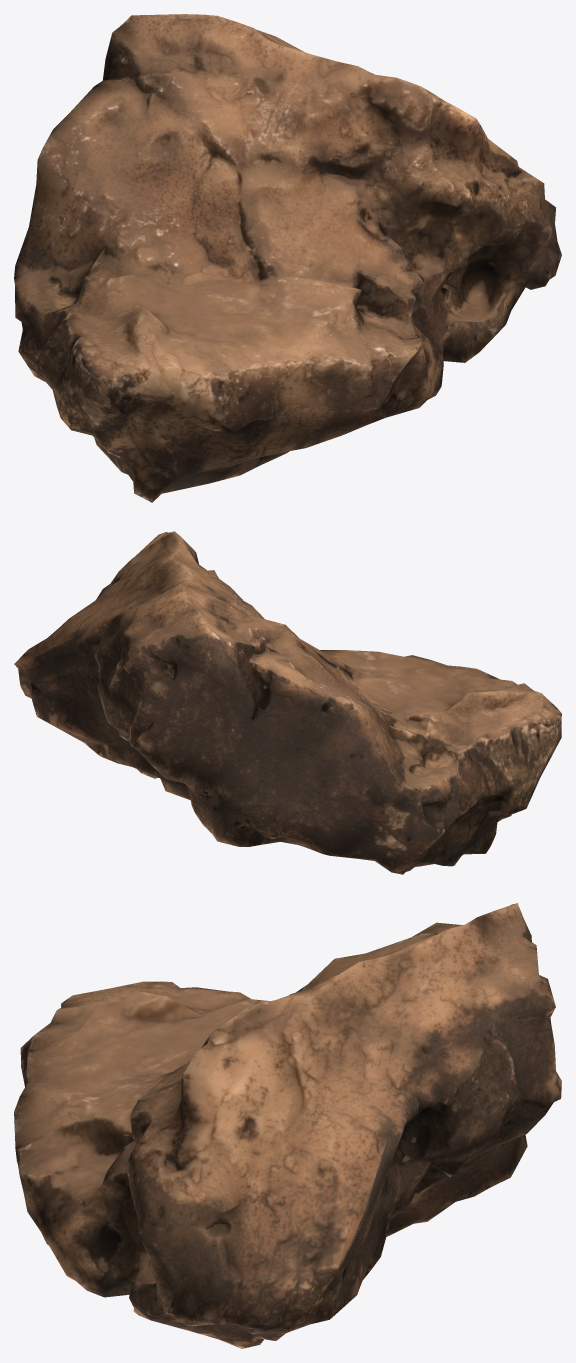
Rendered from mars-rock-ramon-jagged.glb.
3 renders of one model, top to bottom at view 1: azimuth 30°, elevation 25°; view 2: azimuth 150°, elevation 25°; view 3: azimuth 270°, elevation 25°, orthographic. The views are drawn at different scales.
Parts seen in each view (by area): view 1: mars-rock-ramon-jagged_LOD0; view 2: mars-rock-ramon-jagged_LOD0; view 3: mars-rock-ramon-jagged_LOD0.
Part boxes in pixels (<box>): mars-rock-ramon-jagged_LOD0: <box>14,14,561,502</box>; mars-rock-ramon-jagged_LOD0: <box>14,531,561,874</box>; mars-rock-ramon-jagged_LOD0: <box>14,903,561,1348</box>.
Size of what is drawn, in the model's own units: 2.99 by 1.84 by 2.31.
Materials: 1 (1 with a texture image).
